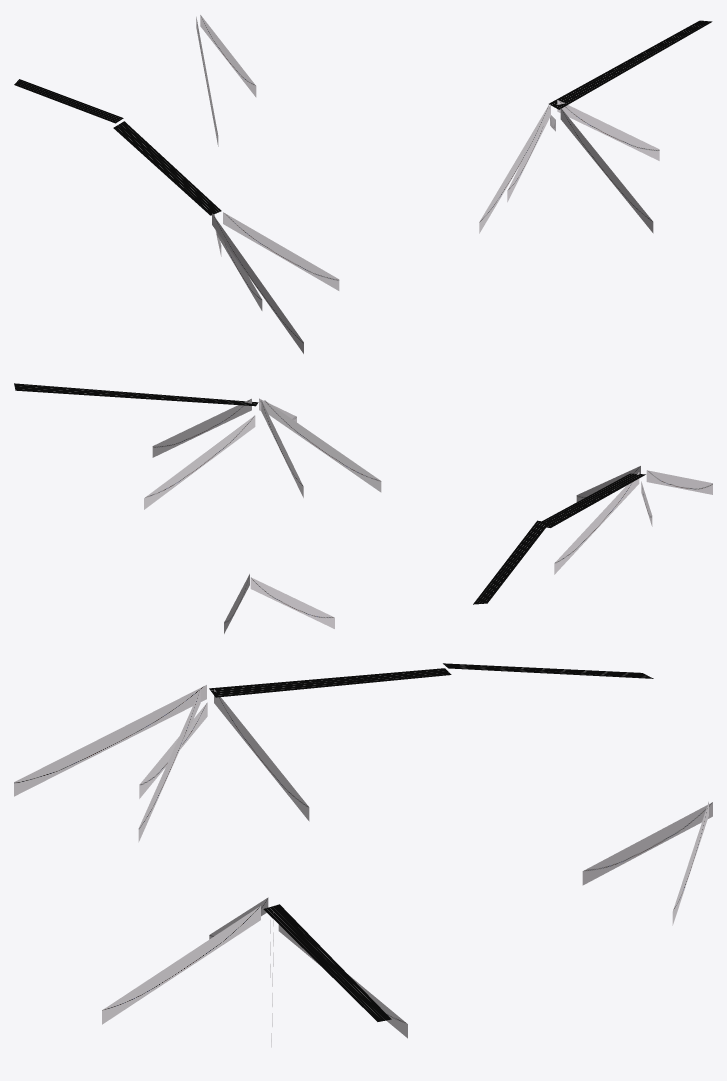
File: w_townwires_13.obj
3 views of the same model, one above another, from view 1: azimuth 30°, elevation 25°; view 2: azimuth 150°, elevation 25°; view 3: azimuth 270°, elevation 25° (orthographic). The views are drawn at different scales.
Parts seen in each view (by area): view 1: w_townwires_13; view 2: w_townwires_13; view 3: w_townwires_13.
Boxes of the visible parts, left/top/right/bottom form: w_townwires_13: left=14, top=15, right=712, bottom=353; w_townwires_13: left=14, top=383, right=712, bottom=633; w_townwires_13: left=14, top=663, right=712, bottom=1047.
Size of the model in its own units: 77.2 by 13.39 by 65.41.
2 materials, 2 textured.
